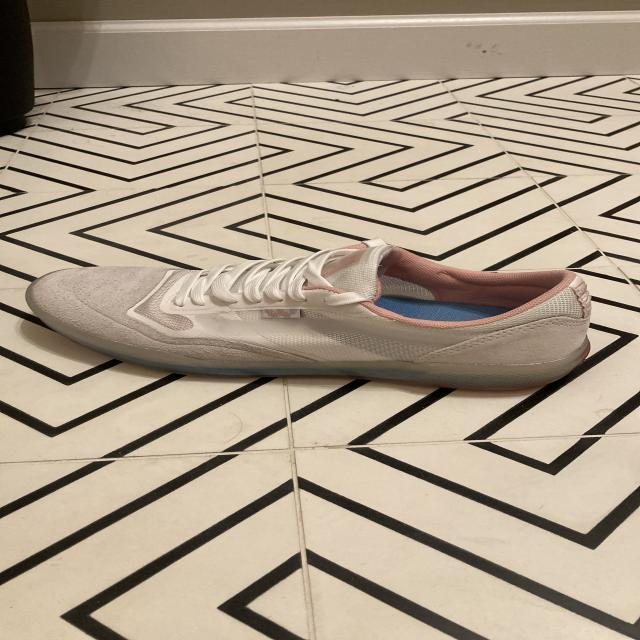shoe: (21, 236, 591, 390)
